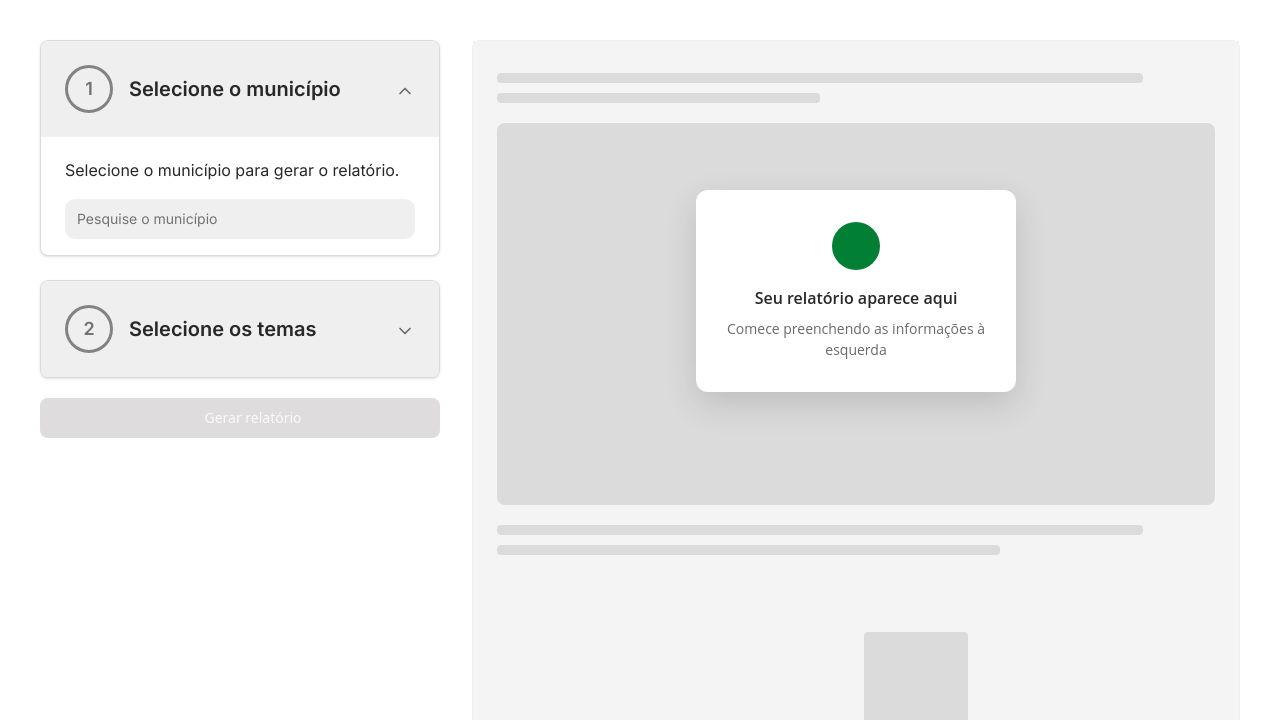
Test: ReportBuilder › shows the busy message when the generation proxy answers 503, not the generic timeout message
Type "campina" into the dropdown with placeholder "Pesquise o município". click: (230, 219)
box: [77,209,383,229]
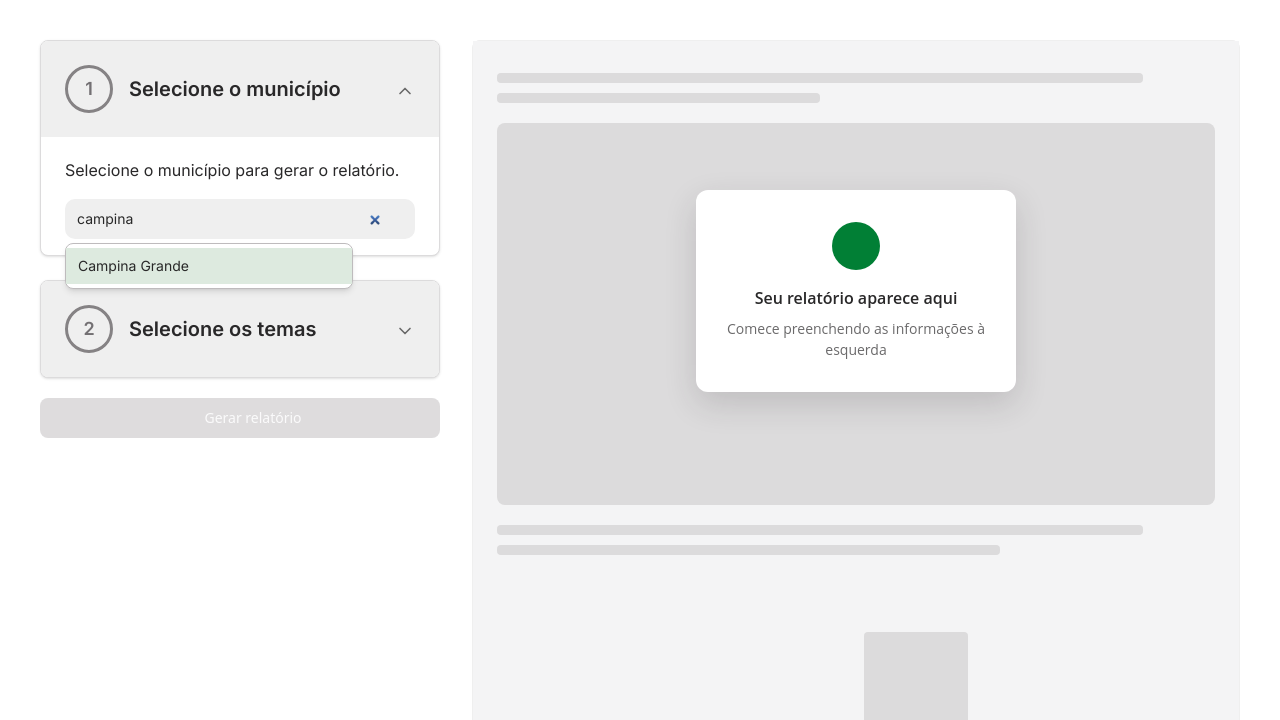
Click the option "Campina Grande". click: click(133, 266)
box: [66,248,352,284]
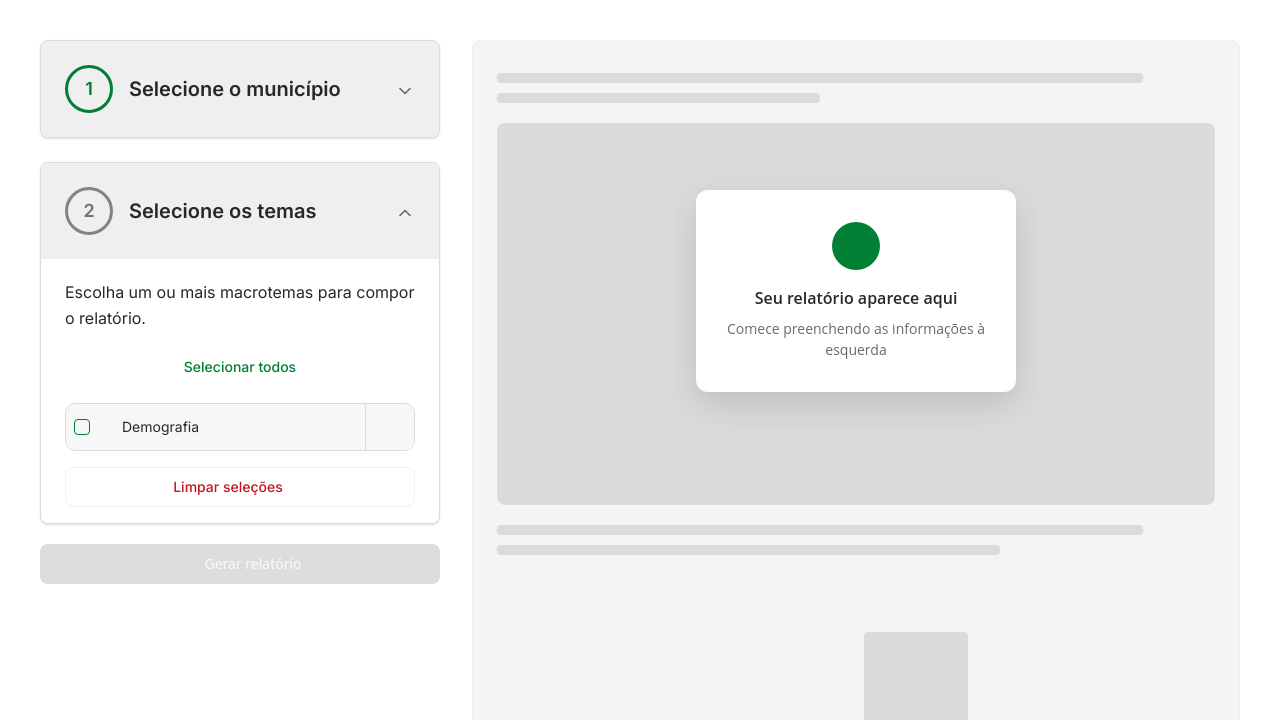
Click the checkbox. click: click(82, 427)
box: [74,419,90,435]
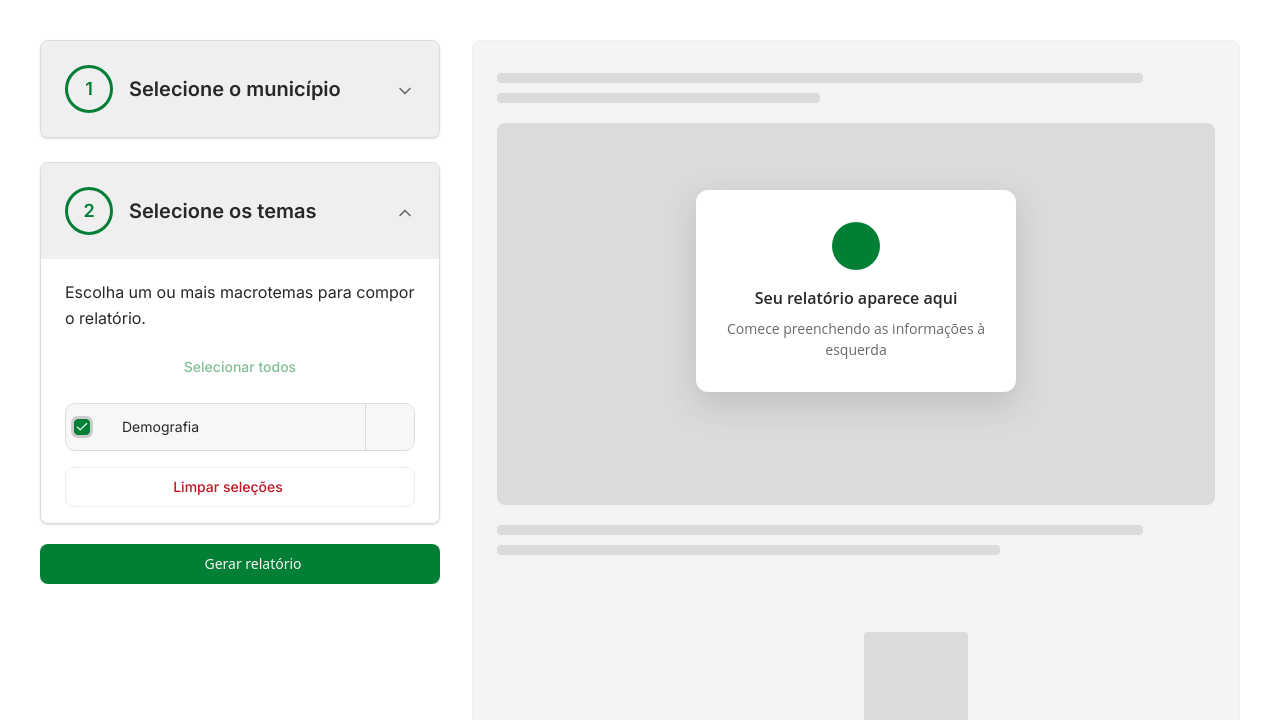
Click the button "Gerar relatório". click: click(240, 564)
box: [40,544,440,584]
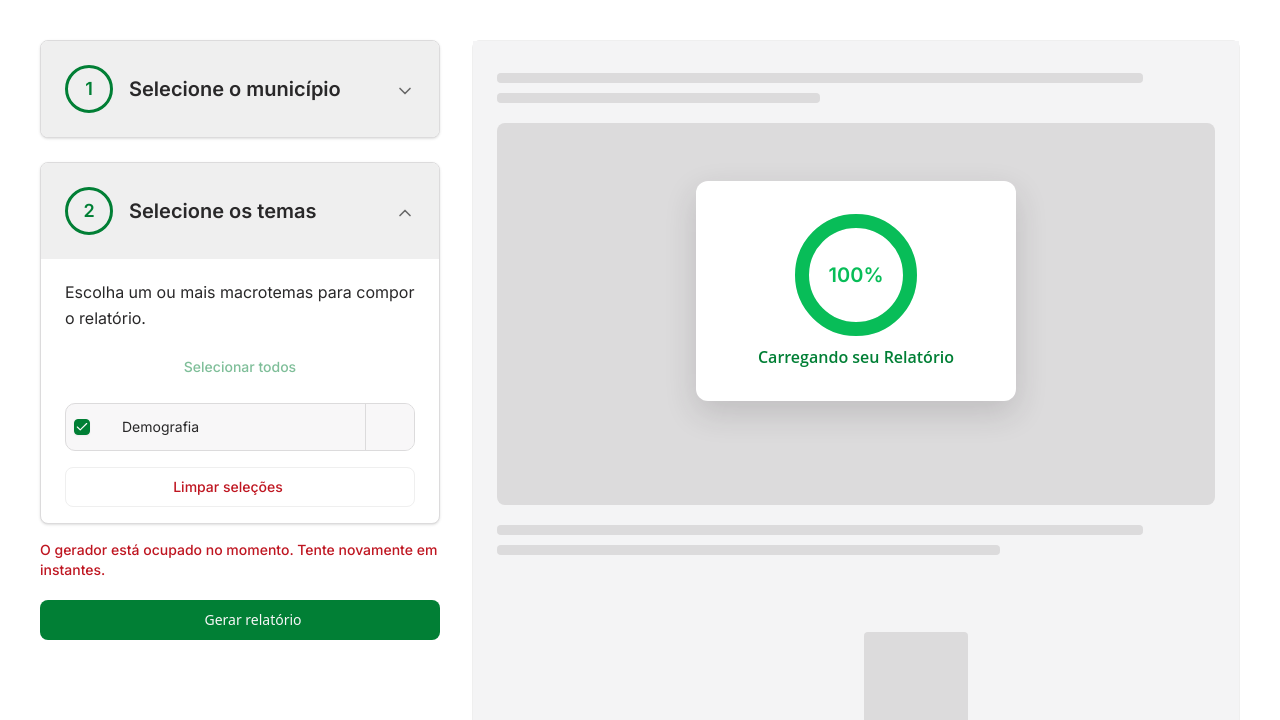
Check: the text "O gerador está ocupado no momento. Tente novamente em instantes." is shown, box [40,540,440,580]
